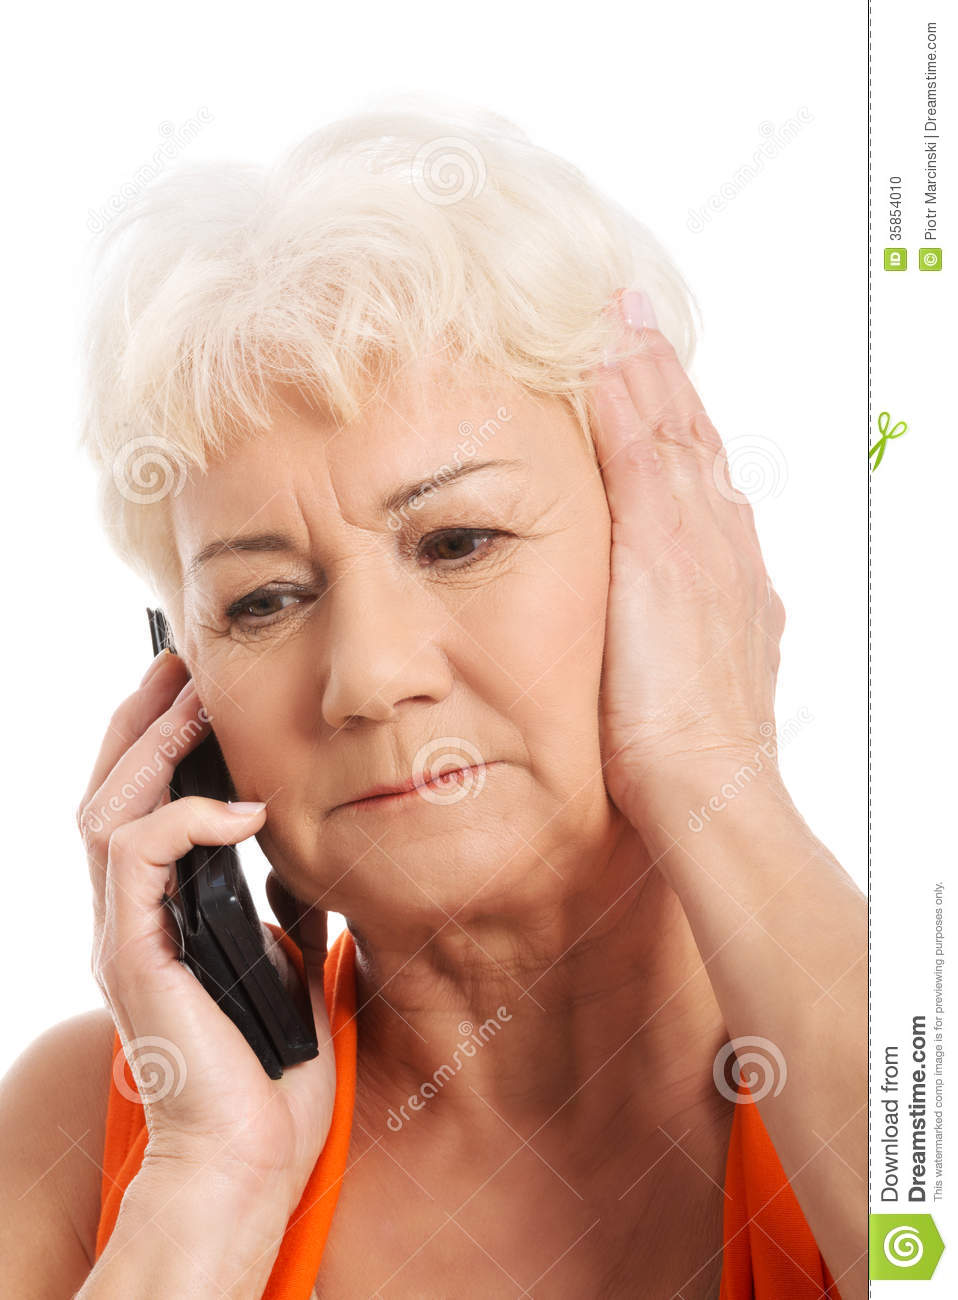phone: (136, 604, 327, 1069)
talk: (76, 448, 591, 1232)
